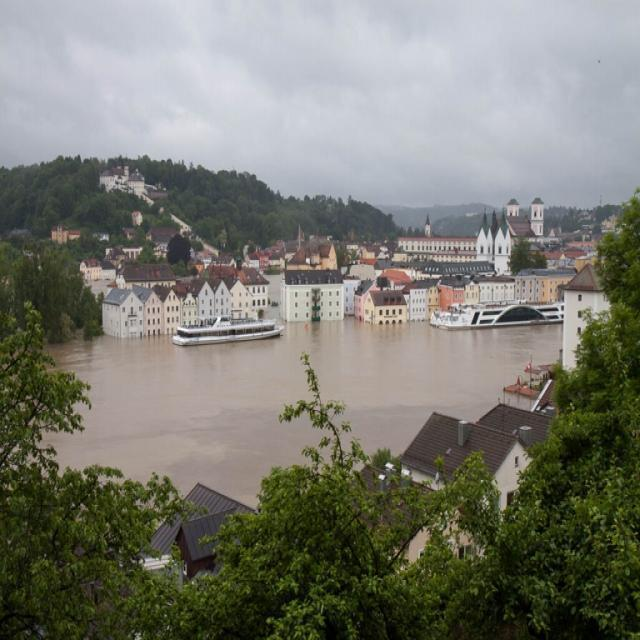flood: (49, 319, 562, 506)
house: (448, 406, 544, 523), (399, 412, 533, 486), (178, 479, 255, 582), (284, 271, 344, 322), (504, 364, 558, 416), (230, 271, 272, 325), (103, 286, 140, 341), (477, 210, 512, 257), (365, 290, 407, 326), (399, 237, 478, 256), (135, 287, 164, 335), (116, 265, 176, 288), (154, 285, 181, 334), (477, 276, 514, 304), (174, 283, 197, 327), (193, 280, 215, 322), (212, 278, 230, 324), (80, 260, 100, 280)
